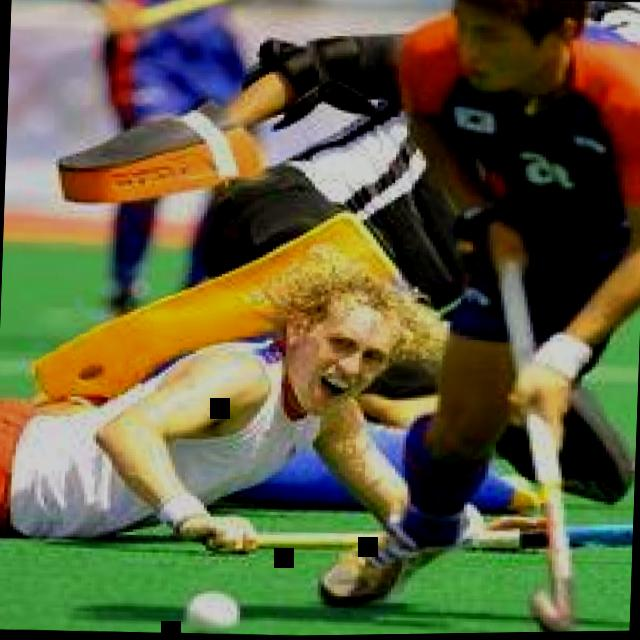Fall-Detected: (0, 237, 542, 576)
